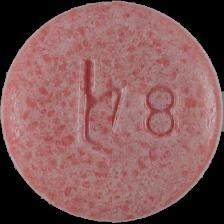51285-129: (0, 0, 224, 224)
